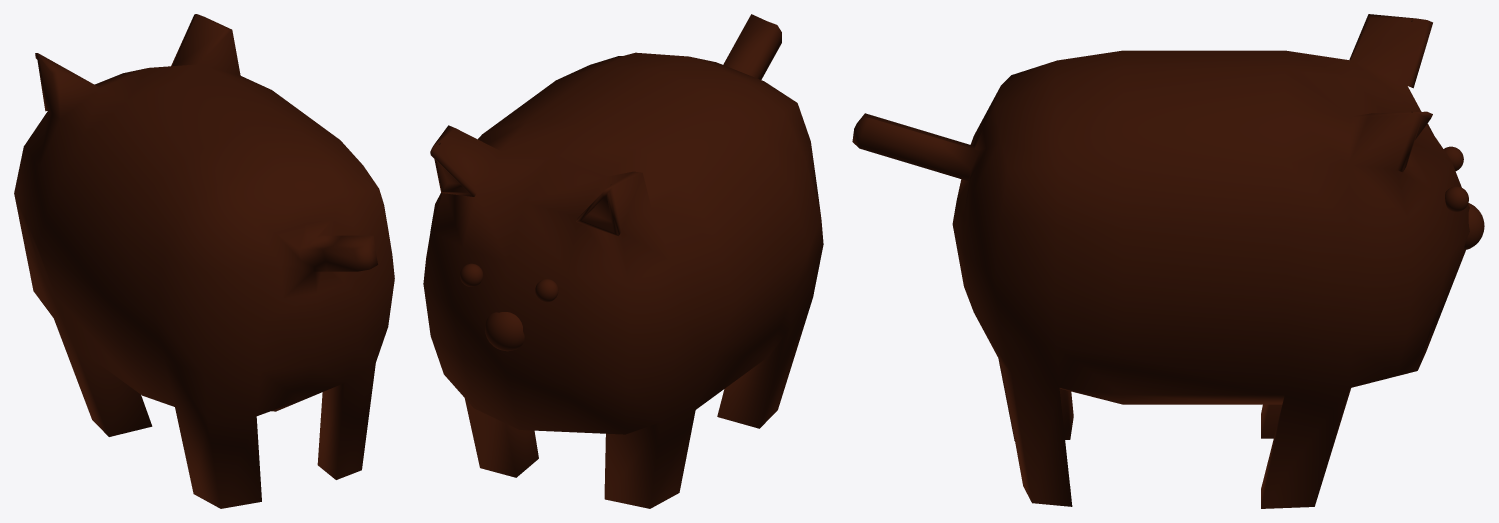
Rendered from bread_cat.obj.
3 renders of one model, left to right at view 1: azimuth 30°, elevation 25°; view 2: azimuth 150°, elevation 25°; view 3: azimuth 270°, elevation 25°, orthographic. The views are drawn at different scales.
Parts seen in each view (by area): view 1: Cube; view 2: Cube; view 3: Cube.
Part boxes in pixels (<box>): Cube: <box>14,14,394,508</box>; Cube: <box>423,14,823,508</box>; Cube: <box>852,14,1484,508</box>.
Size of the model in its own units: 1.89 by 2.27 by 3.3.
